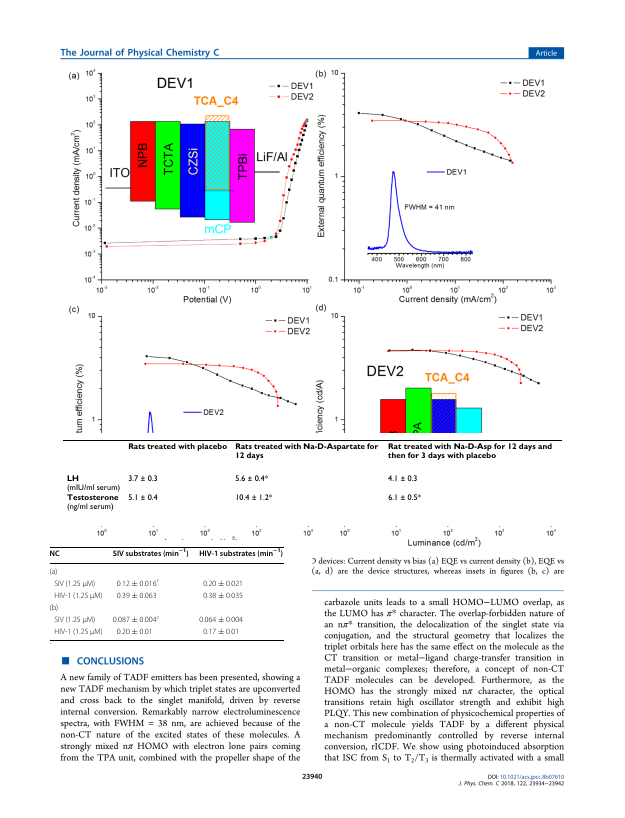borderless: (61, 438, 563, 520), (48, 545, 284, 640)
cell: (387, 443, 552, 461), (234, 443, 379, 461), (65, 474, 121, 493), (65, 494, 119, 512), (127, 443, 228, 452), (198, 548, 284, 558), (112, 548, 190, 558), (112, 614, 160, 625), (53, 591, 104, 601), (116, 578, 160, 589), (53, 628, 104, 637), (53, 579, 96, 589), (202, 579, 244, 589), (116, 591, 158, 601), (202, 591, 244, 601), (198, 616, 244, 625), (234, 493, 273, 503), (53, 616, 96, 625), (234, 474, 269, 484), (116, 628, 154, 637), (202, 628, 240, 637), (387, 493, 421, 503), (127, 474, 158, 484), (387, 474, 418, 484), (127, 493, 158, 503), (49, 549, 61, 558), (49, 567, 58, 577), (49, 604, 59, 613)
